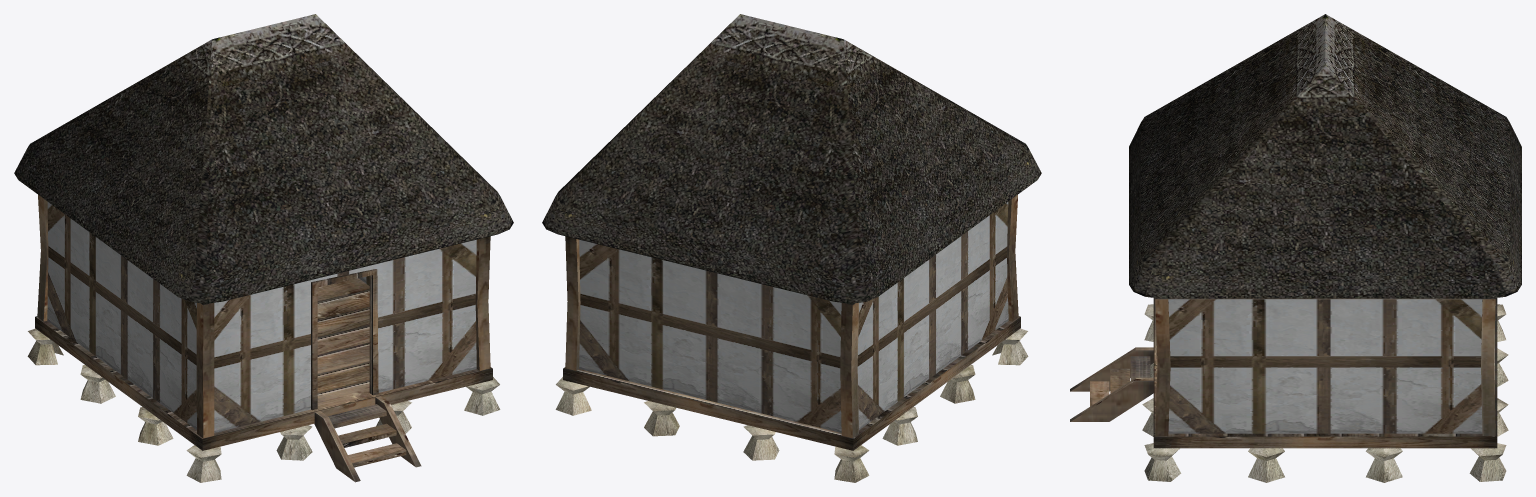
Rendered from granary_closed.glb.
3 renders of one model, left to right at view 1: azimuth 30°, elevation 25°; view 2: azimuth 150°, elevation 25°; view 3: azimuth 270°, elevation 25°, orthographic. The views are drawn at different scales.
Parts seen in each view (by area): view 1: granary_closed.001; view 2: granary_closed.001; view 3: granary_closed.001.
Part boxes in pixels (x1,y1,x2,y2): granary_closed.001: (14,14,513,482); granary_closed.001: (542,14,1041,482); granary_closed.001: (1070,14,1521,482).
Size of the model in its own units: 600 by 616 by 690.
4 materials, 4 textured.
